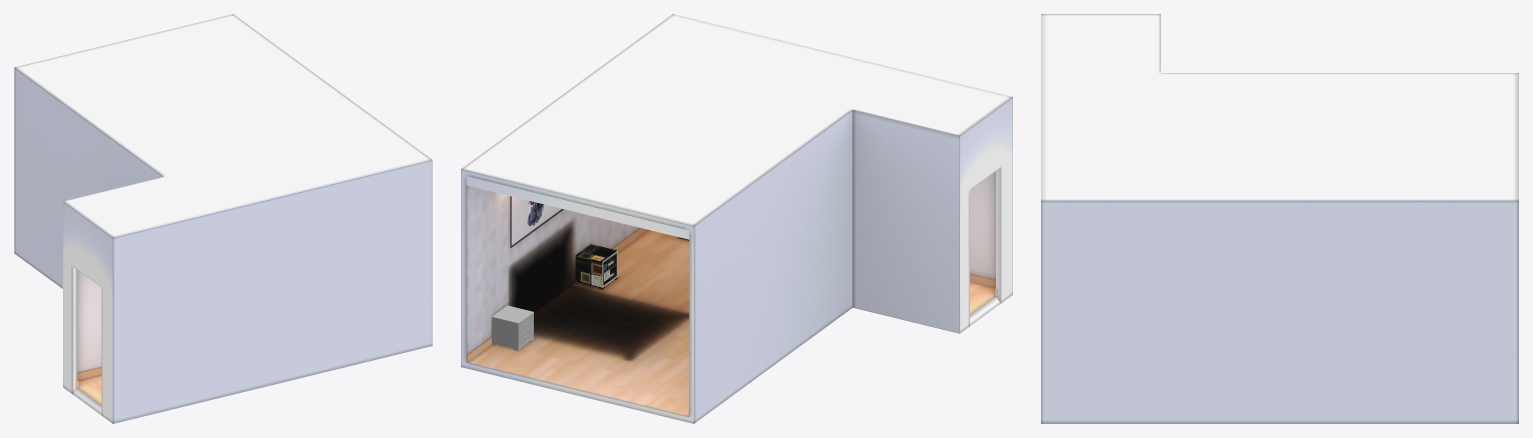
The model's file is bedroom.gltf.
3 views of the same model, side by side, from view 1: azimuth 30°, elevation 25°; view 2: azimuth 150°, elevation 25°; view 3: azimuth 270°, elevation 25° (orthographic). The views are drawn at different scales.
Visible parts, largest first — view 1: Wall; view 2: Wall, Celing, Side_table, Side_table001, Art_02_pic_0, Scerting; view 3: Wall.
Boxes of the visible parts, box(x1,y1,x2,y2) form: Wall: box(14, 14, 432, 423); Wall: box(461, 14, 1012, 423); Celing: box(466, 176, 689, 239); Side_table: box(575, 244, 617, 289); Side_table001: box(492, 305, 533, 350); Art_02_pic_0: box(511, 196, 561, 245); Scerting: box(466, 228, 997, 416); Wall: box(1041, 14, 1518, 423).
Bounding box in the file's own units: 4.48 × 2.49 × 4.84.
